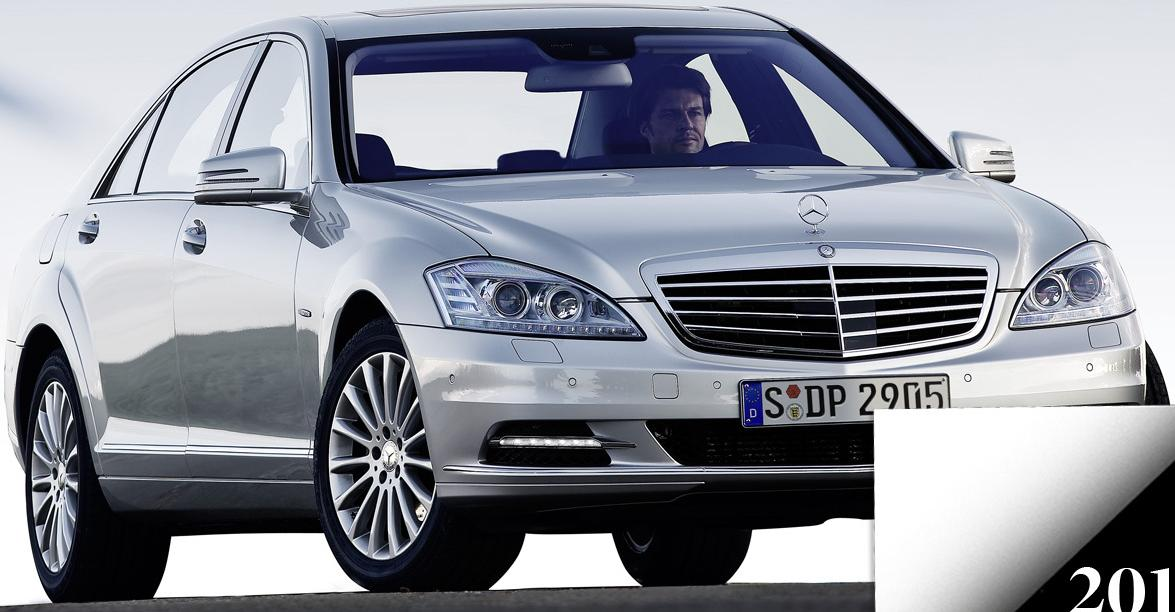front_view: (441, 193, 1163, 476)
headlight: (426, 243, 666, 356)
side_glass: (128, 42, 319, 210)
